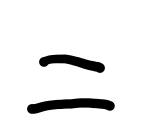eqv: (27, 55, 115, 114)
